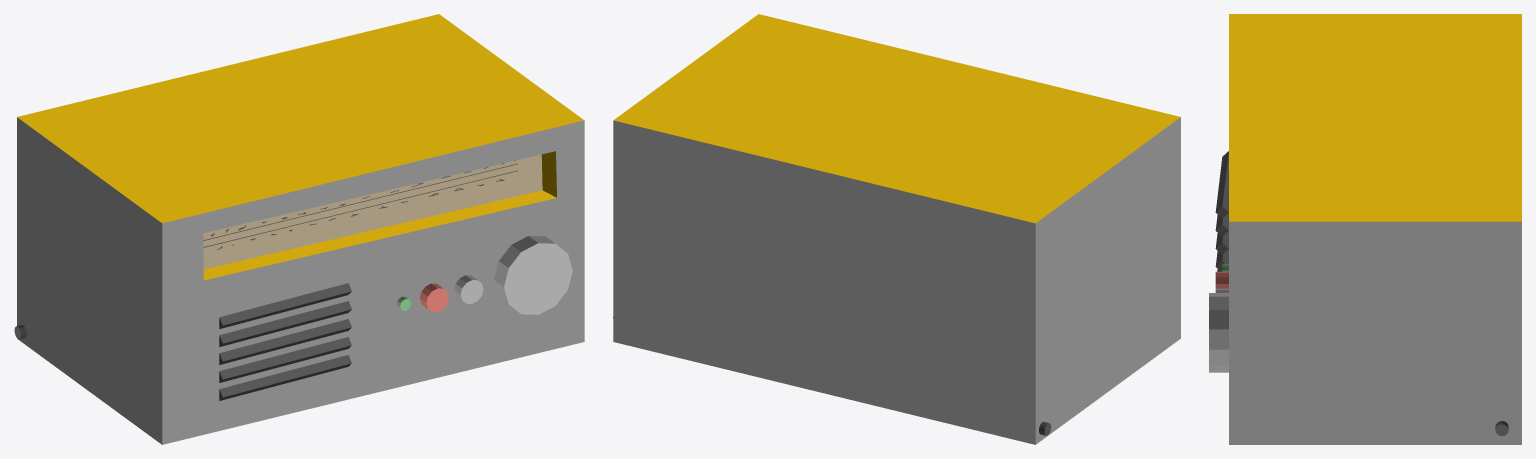
The model's file is radio.fbx.
The picture shows the model from 3 angles, left to right: view 1: azimuth 30°, elevation 25°; view 2: azimuth 150°, elevation 25°; view 3: azimuth 270°, elevation 25°; orthographic projection.
Parts seen in each view (by area): view 1: polySurface1, polySurface2, polySurface6, polySurface7, polySurface4, polySurface5, polySurface8, polySurface3, polySurface69; view 2: polySurface1; view 3: polySurface1, polySurface2, polySurface8.
Part boxes in pixels (x1=…): polySurface1: x1=17, y1=14, x2=584, y2=444; polySurface2: x1=494, y1=236, x2=572, y2=314; polySurface6: x1=219, y1=319, x2=351, y2=364; polySurface7: x1=219, y1=301, x2=351, y2=346; polySurface4: x1=219, y1=355, x2=351, y2=400; polySurface5: x1=219, y1=337, x2=351, y2=382; polySurface8: x1=219, y1=283, x2=351, y2=328; polySurface3: x1=454, y1=275, x2=483, y2=303; polySurface69: x1=419, y1=283, x2=449, y2=312; polySurface1: x1=613, y1=14, x2=1180, y2=444; polySurface1: x1=1229, y1=14, x2=1521, y2=444; polySurface2: x1=1209, y1=293, x2=1228, y2=372; polySurface8: x1=1215, y1=151, x2=1228, y2=218.
Size of the model in its own units: 0.76 by 0.37 by 0.47.
